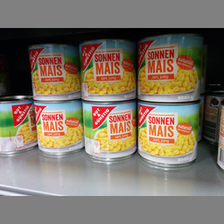corn: (136, 33, 202, 103), (135, 101, 200, 170), (77, 36, 137, 103), (82, 99, 137, 164), (28, 42, 80, 100), (32, 98, 82, 158), (1, 94, 38, 155)
